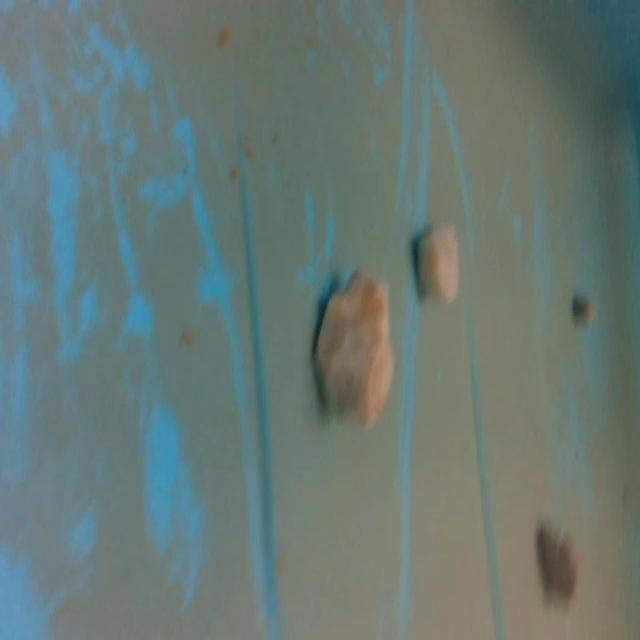rock: (313, 250, 400, 442), (534, 521, 582, 613), (412, 223, 463, 308), (570, 289, 600, 329)
